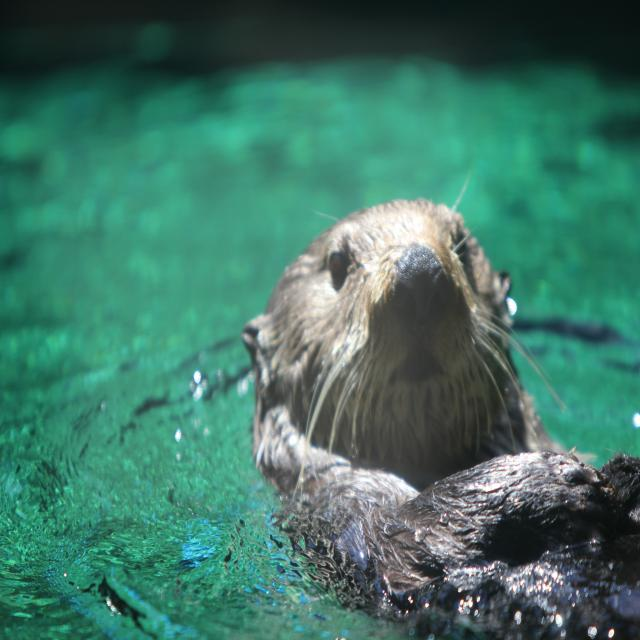otter: (257, 199, 640, 560)
